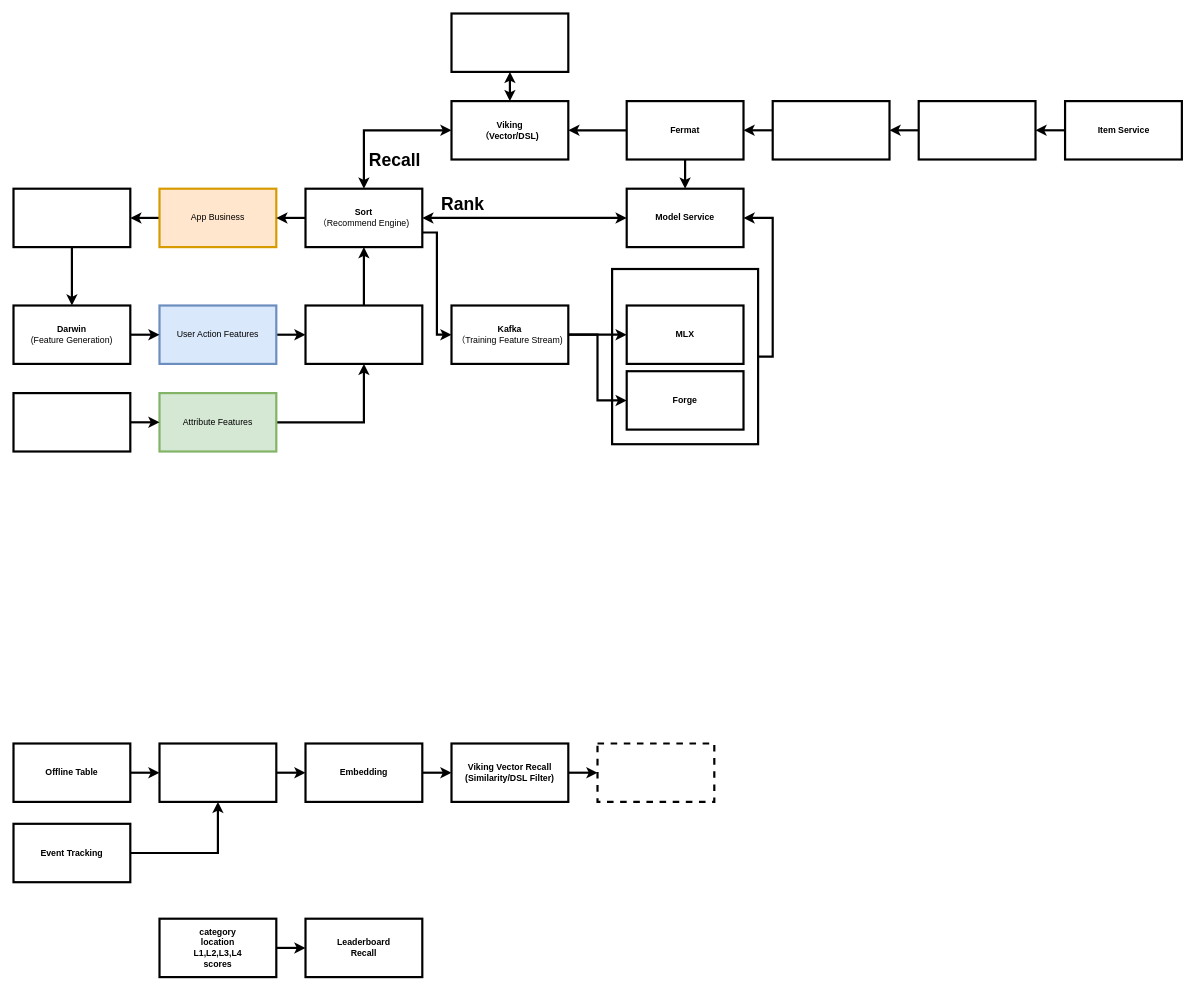
Image size: 1196x991. Some labels were removed from this diagram. The shapes that lost their labels are listed below. From the top down, each one's box as (x1, y1, x2, y2) in pixels, then its label:
(450, 12, 569, 73): UFS
(771, 100, 890, 160): TBase
(917, 100, 1036, 160): Updater
(12, 187, 131, 248): ByteIO (Event Tracking)
(304, 304, 423, 365): BFS （Feature Center)
(611, 268, 759, 445): Reckon (ML Platform)
(12, 392, 131, 452): Dorado (DataHub) (Hive/Redis)
(158, 742, 277, 803): Features
(596, 742, 715, 803): Viking Rough Sort (Model)
